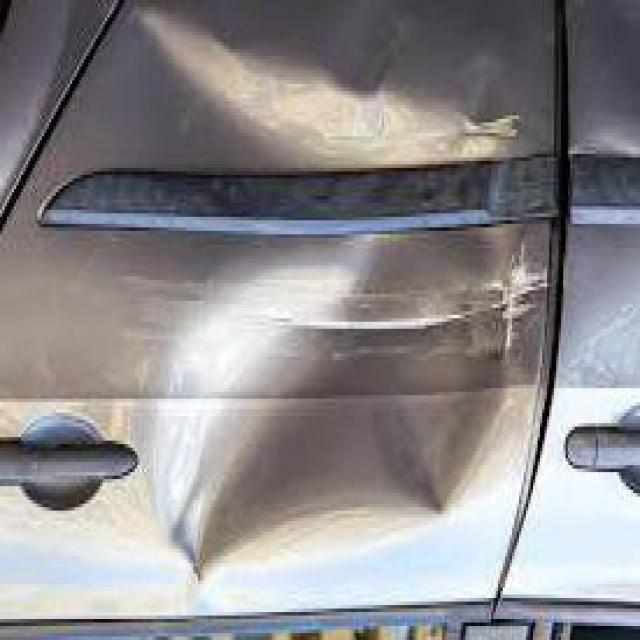dent: (119, 218, 526, 606)
